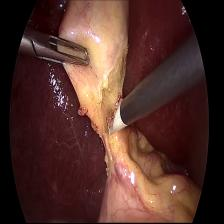Grasper: (30, 22, 89, 74)
Hook: (104, 97, 129, 138)
